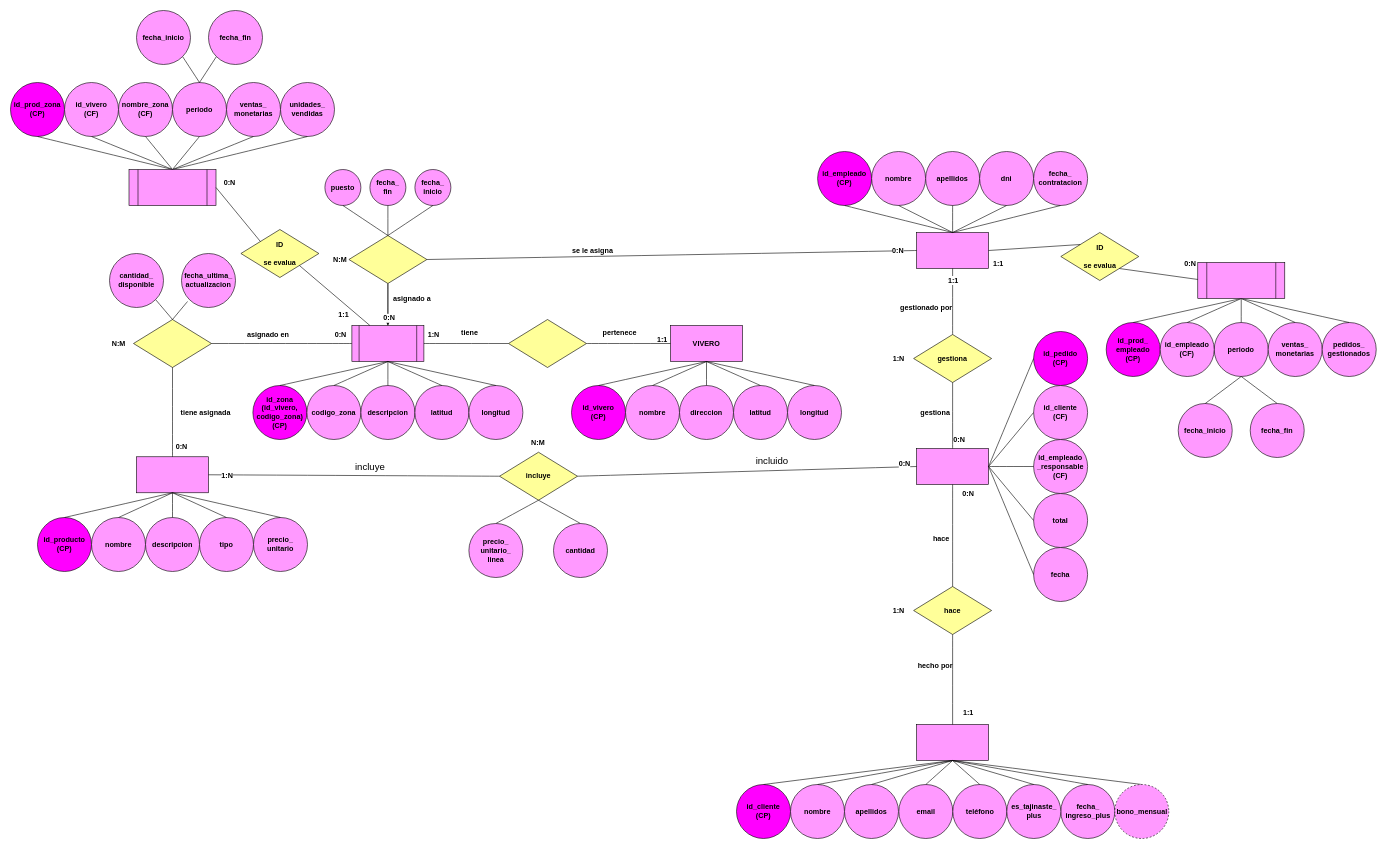
Some shapes in this 1387 by 849 pixel diagram are drawn without their labels. The centre of each missing label's shape, as x and y in pixels:
"asigna (stock)" belongs at (x=172, y=343).
"asignacion" belongs at (x=387, y=259).
"CLIENTE" belongs at (x=952, y=742).
"EMPLEADO" belongs at (x=952, y=250).
"ID tiene" belongs at (x=547, y=343).
"PEDIDO" belongs at (x=952, y=466).
"PRODUCTIVIDAD_ EMPLEADO" belongs at (x=1241, y=280).
"PRODUCTIVIDAD_ ZONA" belongs at (x=172, y=187).
"PRODUCTO" belongs at (x=172, y=474).
"ZONA" belongs at (x=387, y=343).
